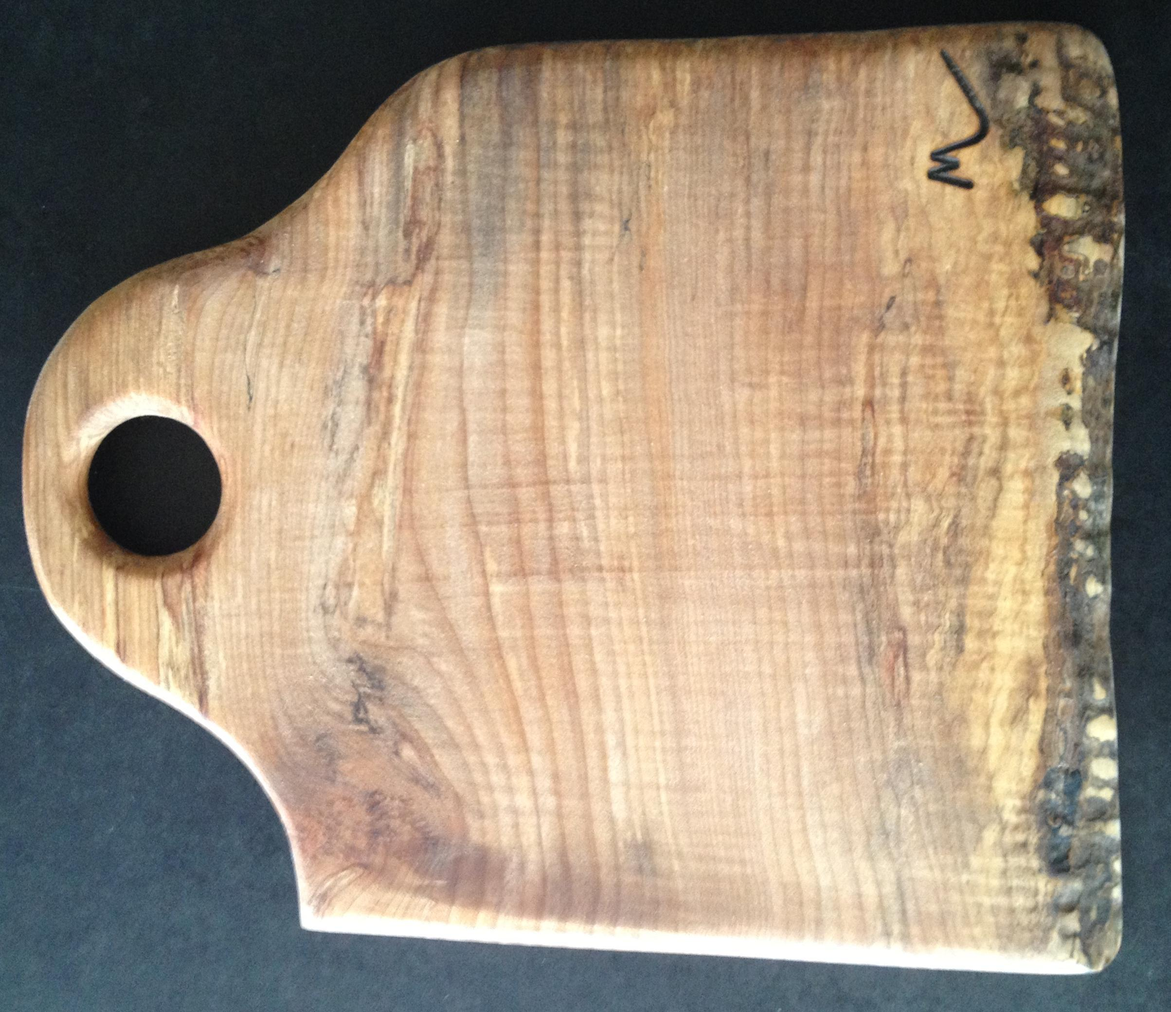gloved_hand: (18, 22, 1159, 982)
